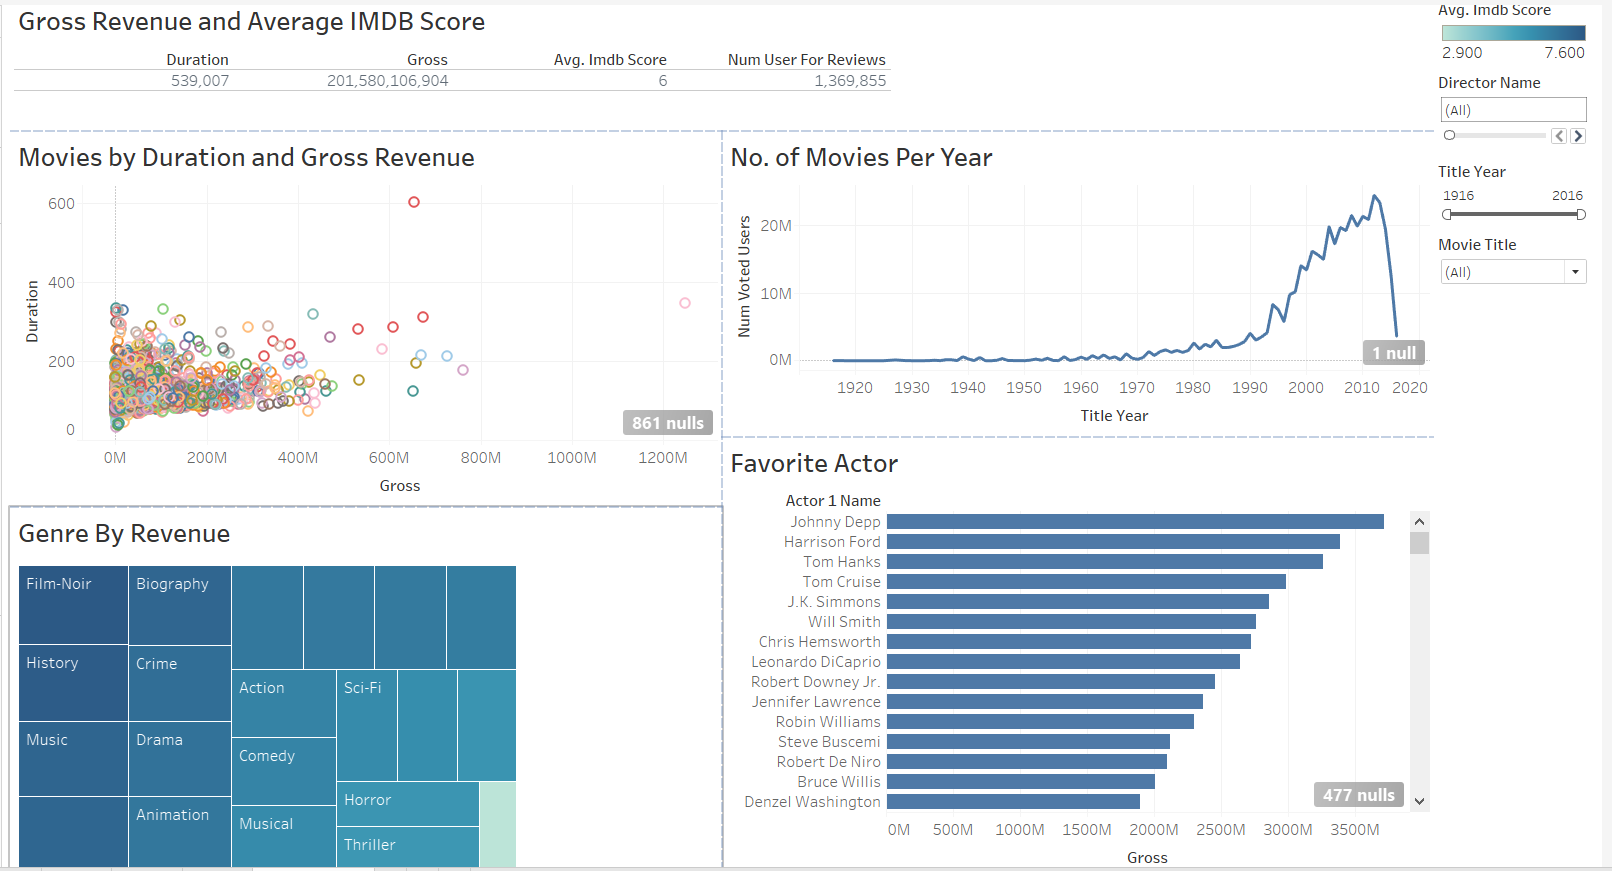

What the dashboard file says about the page in this screenshot:
{"tool":"tableau","page":{"name":"Dashboard 1","canvas":[1600,900],"ordinal":0},"visuals":[{"type":"worksheet","box":[0,0,1600,900]},{"type":"worksheet","param":"horz","box":[8,8,1584,884]},{"type":"worksheet","param":"horz","box":[8,8,1424,884]},{"type":"worksheet","box":[8,8,1424,884]},{"type":"worksheet","title":"Sheet 1","mark":"Automatic","box":[8,8,1424,159]},{"type":"worksheet","param":"vert","box":[1432,8,160,884]},{"type":"worksheet","title":"Sheet 4","mark":"Automatic","param":"[federated.07r212d0vbrf3m1f5plx71p1xonl].[avg:imdb_score:qk]","box":[1432,8,160,73]},{"type":"worksheet","title":"Sheet 5","mark":"Automatic","rows":["actor_1_name"],"cols":["gross"],"param":"[federated.07r212d0vbrf3m1f5plx71p1xonl].[none:director_name:nk]","box":[1432,81,160,89]},{"type":"worksheet","title":"Sheet 2","mark":"Automatic","rows":["duration"],"cols":["gross"],"box":[8,167,712,374.3]},{"type":"worksheet","title":"Sheet 3","mark":"Automatic","rows":["num_voted_users"],"cols":["title_year"],"box":[720,167,712,283]},{"type":"worksheet","title":"Sheet 3","mark":"Automatic","rows":["num_voted_users"],"cols":["title_year"],"param":"[federated.07r212d0vbrf3m1f5plx71p1xonl].[none:title_year:qk]","box":[1432,170,160,73]},{"type":"worksheet","title":"Sheet 2","mark":"Automatic","rows":["duration"],"cols":["gross"],"param":"[federated.07r212d0vbrf3m1f5plx71p1xonl].[none:movie_title:nk]","box":[1432,243,160,61]},{"type":"worksheet","title":"Sheet 5","mark":"Automatic","rows":["actor_1_name"],"cols":["gross"],"box":[720,450,712,442]},{"type":"worksheet","title":"Sheet 4","mark":"Automatic","box":[8,541.3,712,350.7]}]}

Visuals, with their boxes on the page's 1600x900 design canvas (x1, y1, x2, y2). These are canvas units, not pixel positions in the 1612x871 screenshot, which may show the page scaled, cropped or inside an application window:
worksheet: locate(0, 0, 1600, 900)
worksheet: locate(8, 8, 1592, 892)
worksheet: locate(8, 8, 1432, 892)
worksheet: locate(8, 8, 1432, 892)
"Sheet 1" worksheet: locate(8, 8, 1432, 167)
worksheet: locate(1432, 8, 1592, 892)
"Sheet 4" worksheet: locate(1432, 8, 1592, 81)
"Sheet 5" worksheet: locate(1432, 81, 1592, 170)
"Sheet 2" worksheet: locate(8, 167, 720, 541)
"Sheet 3" worksheet: locate(720, 167, 1432, 450)
"Sheet 3" worksheet: locate(1432, 170, 1592, 243)
"Sheet 2" worksheet: locate(1432, 243, 1592, 304)
"Sheet 5" worksheet: locate(720, 450, 1432, 892)
"Sheet 4" worksheet: locate(8, 541, 720, 892)
